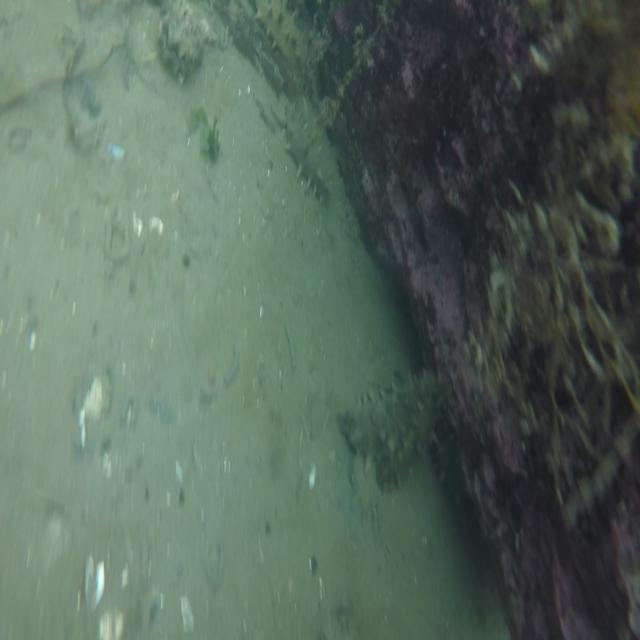holothurian: (337, 372, 438, 475), (275, 101, 332, 208), (376, 398, 435, 488), (250, 0, 313, 81)
